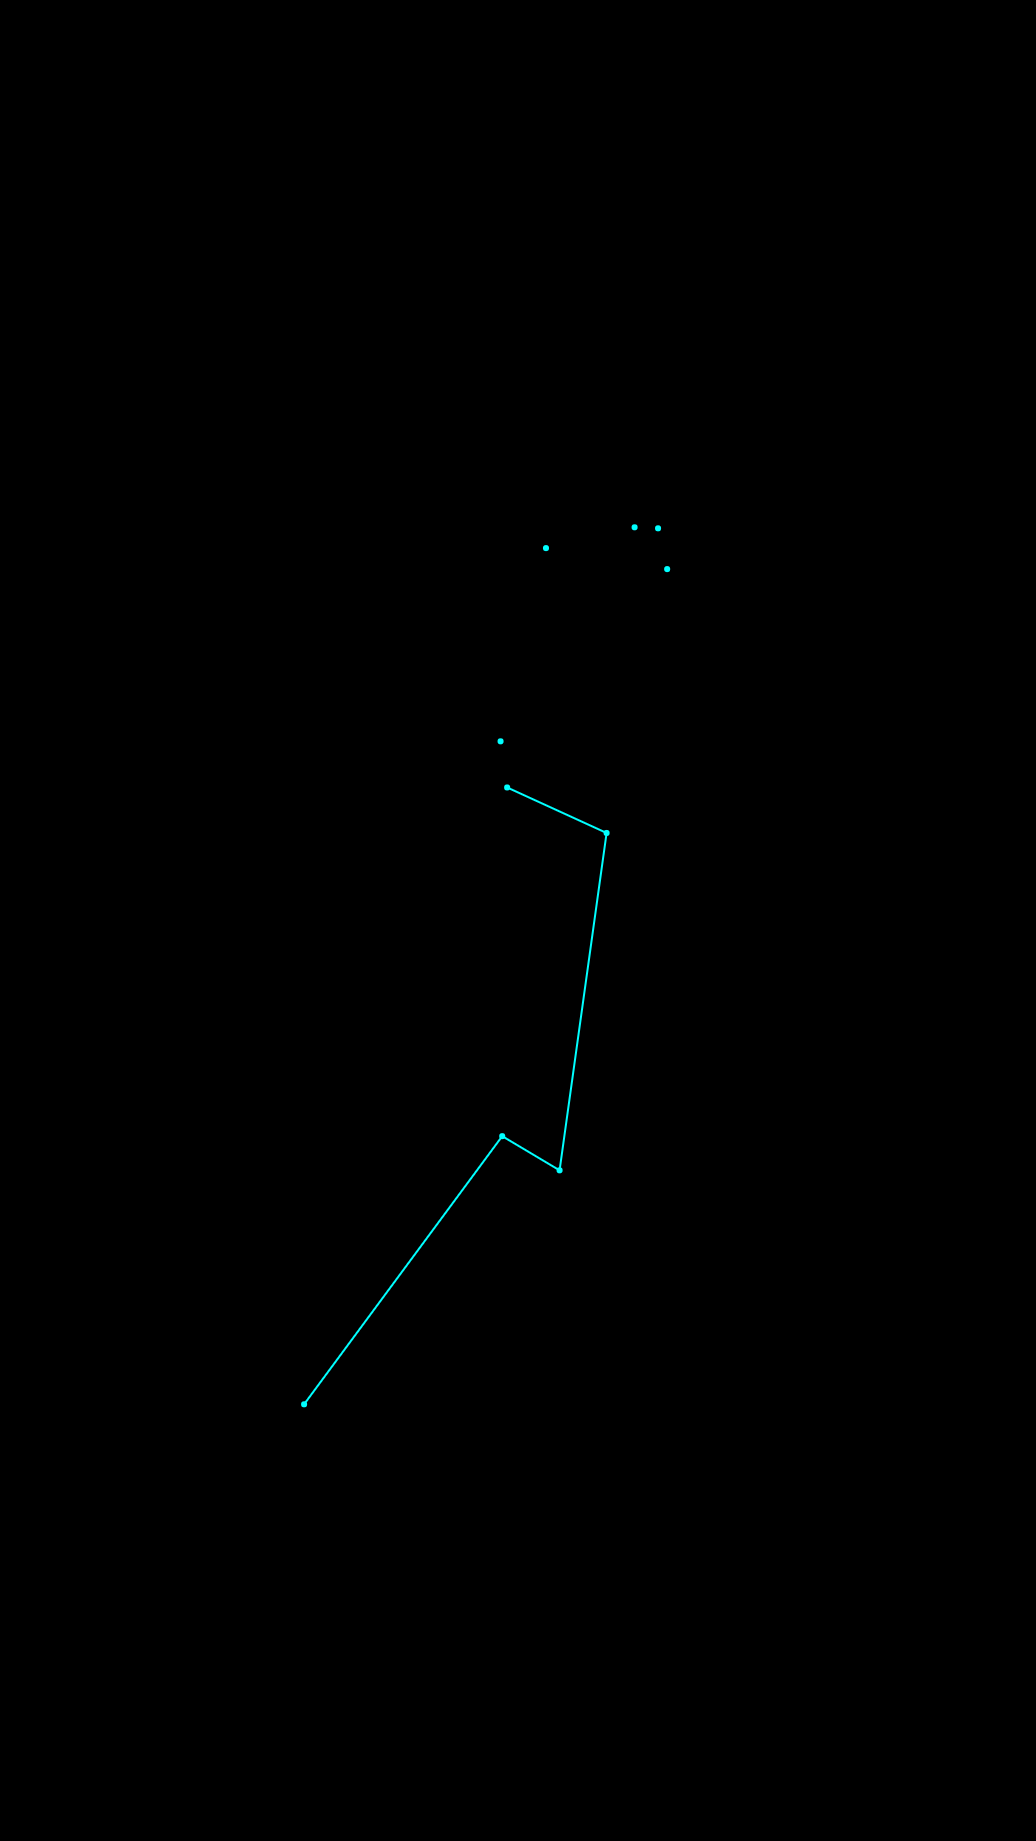warrior_1: (269, 455, 718, 1458)
